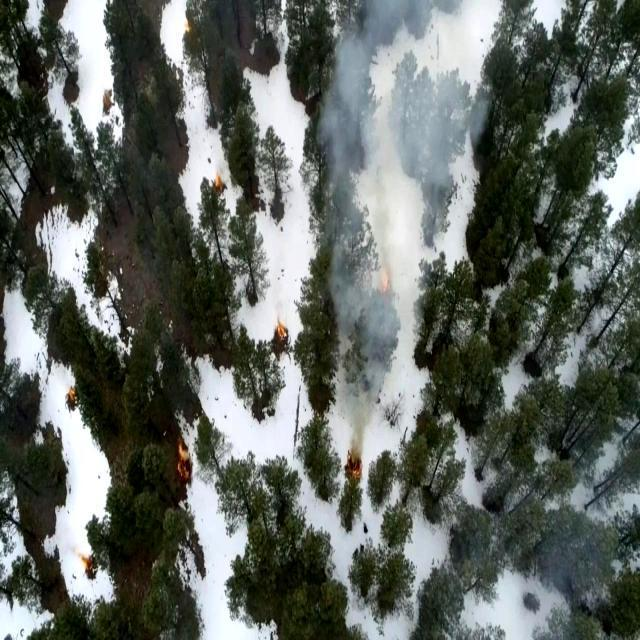Fire: (274, 318, 288, 345)
Smoke: (312, 8, 470, 455)
